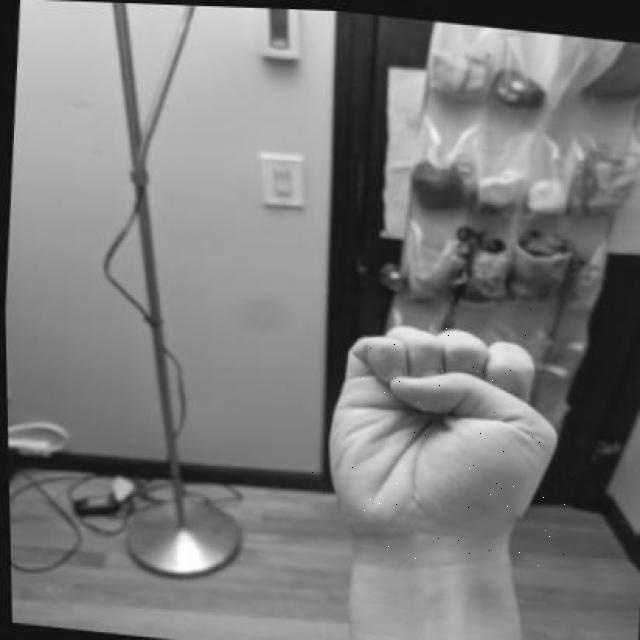E: (309, 308, 573, 569)
